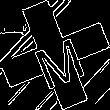M_N: (24, 23, 86, 87)
